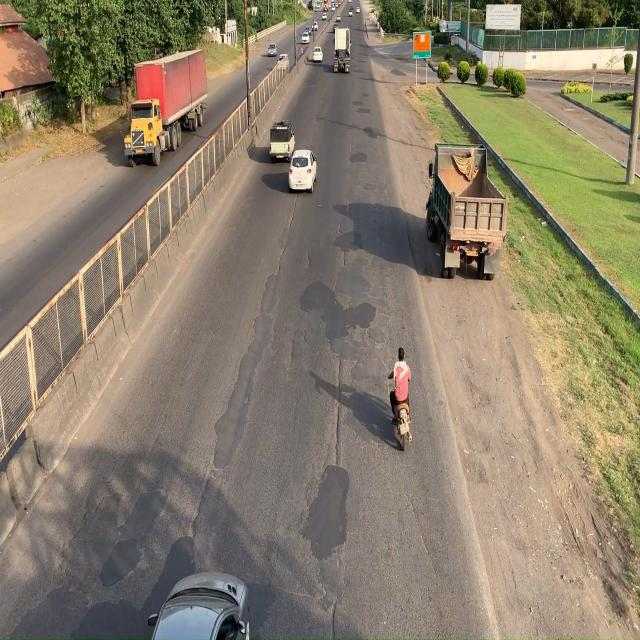Truck: (428, 140, 507, 285), (121, 44, 207, 168)
cars: (289, 147, 317, 197), (270, 119, 296, 160)
